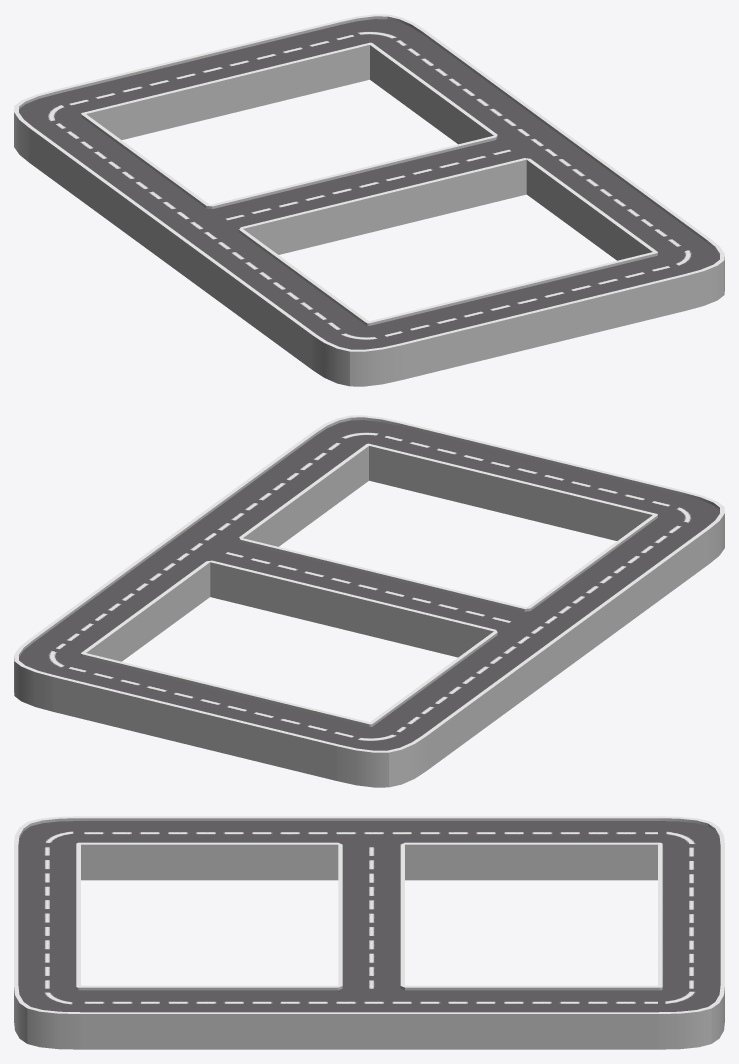
Rendered from level2_road2.fbx.
3 renders of one model, top to bottom at view 1: azimuth 30°, elevation 25°; view 2: azimuth 150°, elevation 25°; view 3: azimuth 270°, elevation 25°, orthographic.
Visible parts, largest first — view 1: level2_road; view 2: level2_road; view 3: level2_road.
Boxes of the visible parts, left/top/right/bottom form: level2_road: left=14, top=14, right=724, bottom=386; level2_road: left=14, top=415, right=724, bottom=787; level2_road: left=14, top=816, right=724, bottom=1049.
Size of the model in its own units: 7 by 0.5872 by 10.64.
